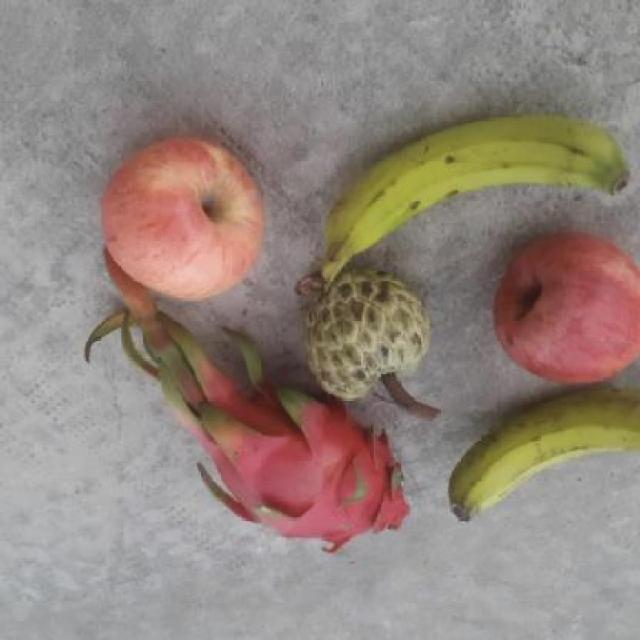apple: (99, 132, 270, 300), (490, 230, 639, 387)
banana: (304, 98, 635, 293), (446, 386, 640, 523)
dragon fruit: (184, 390, 415, 553)
sugar apple: (299, 268, 444, 404)
